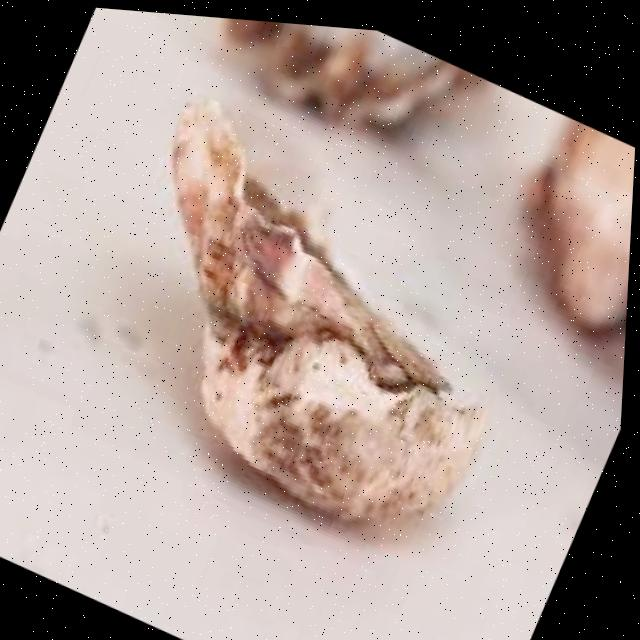Oyster-Closed: (224, 18, 488, 136)
Oyster-Indeterminate: (171, 98, 485, 520)
